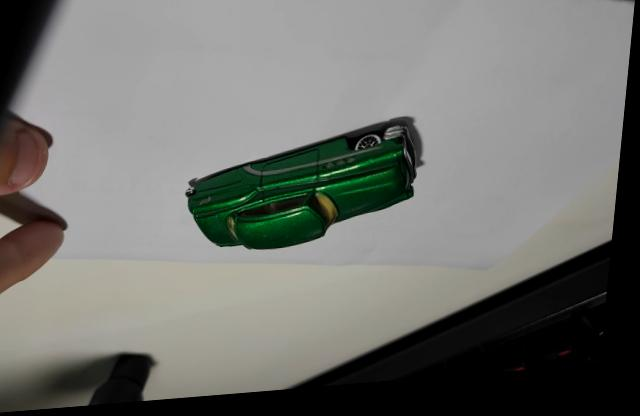06_MASERATI: (191, 122, 428, 254)
